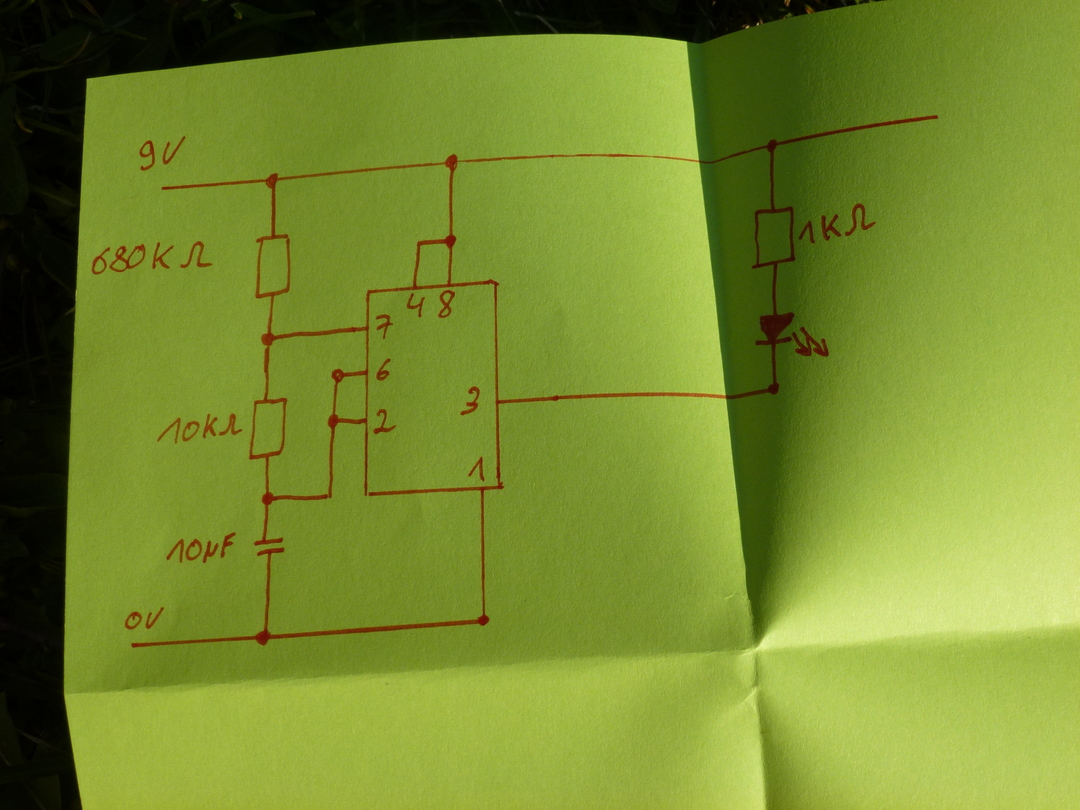capacitor.unpolarized: (252, 535, 287, 561)
diode.light_emitting: (752, 311, 831, 359)
integrated_cricuit.ne555: (361, 279, 504, 498)
junction: (253, 628, 273, 648), (324, 411, 341, 431), (443, 152, 459, 173), (765, 378, 782, 397), (474, 612, 493, 629), (329, 366, 346, 385), (264, 171, 281, 190), (442, 232, 459, 250), (260, 330, 276, 346), (765, 137, 779, 155), (261, 490, 275, 505), (413, 236, 426, 252), (323, 490, 336, 502)
resistor: (750, 205, 797, 270), (248, 397, 288, 461), (254, 233, 292, 299)
terminal: (922, 106, 946, 127), (127, 638, 139, 652), (159, 184, 169, 194)
text: (90, 241, 213, 276), (797, 202, 877, 245), (156, 412, 243, 446), (166, 531, 237, 564), (138, 134, 186, 172), (124, 605, 165, 630), (371, 407, 398, 435), (459, 384, 481, 417), (464, 455, 488, 484), (435, 289, 457, 320), (373, 312, 395, 341), (405, 292, 427, 319), (373, 357, 393, 383)
